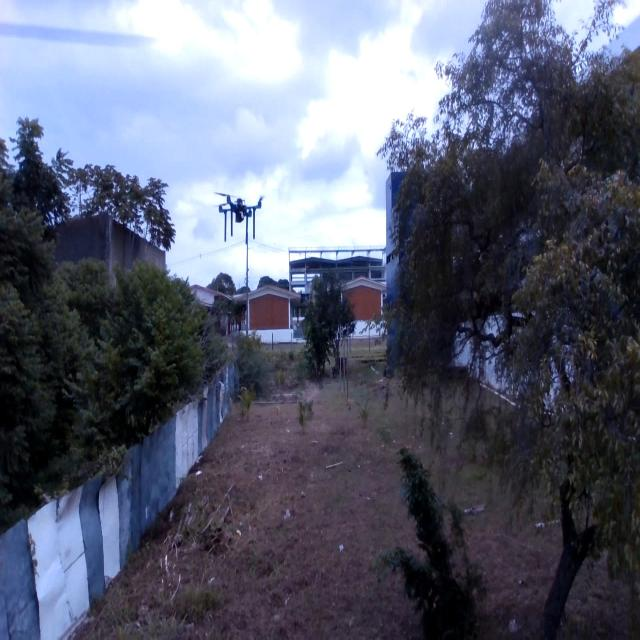-uav-: (207, 187, 270, 247)
